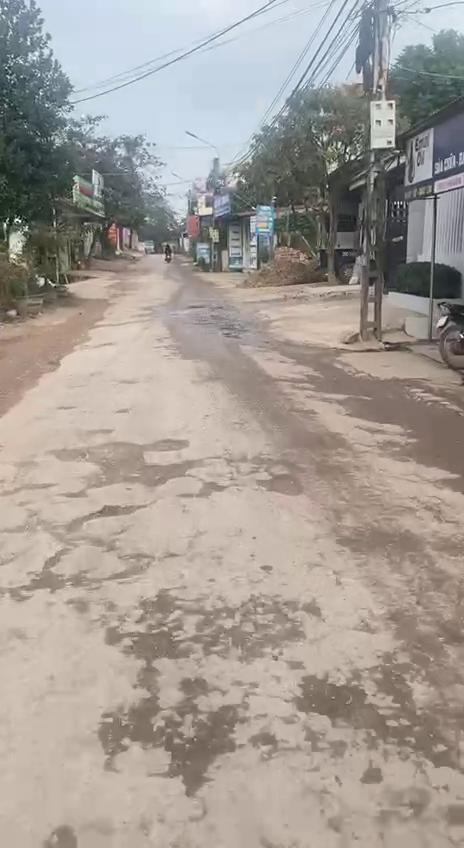pothole: (287, 640, 464, 776), (66, 668, 250, 796), (96, 585, 320, 669), (0, 504, 153, 604), (52, 438, 207, 498), (255, 464, 308, 502), (178, 481, 225, 504)
